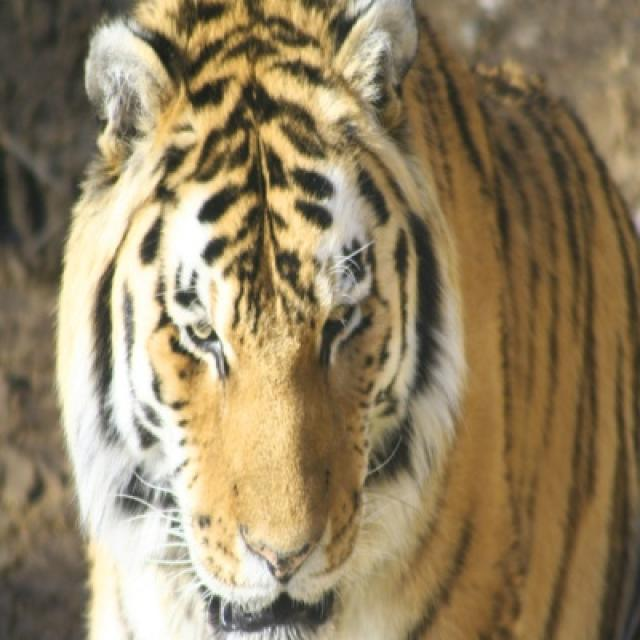Tiger: (51, 0, 638, 638)
